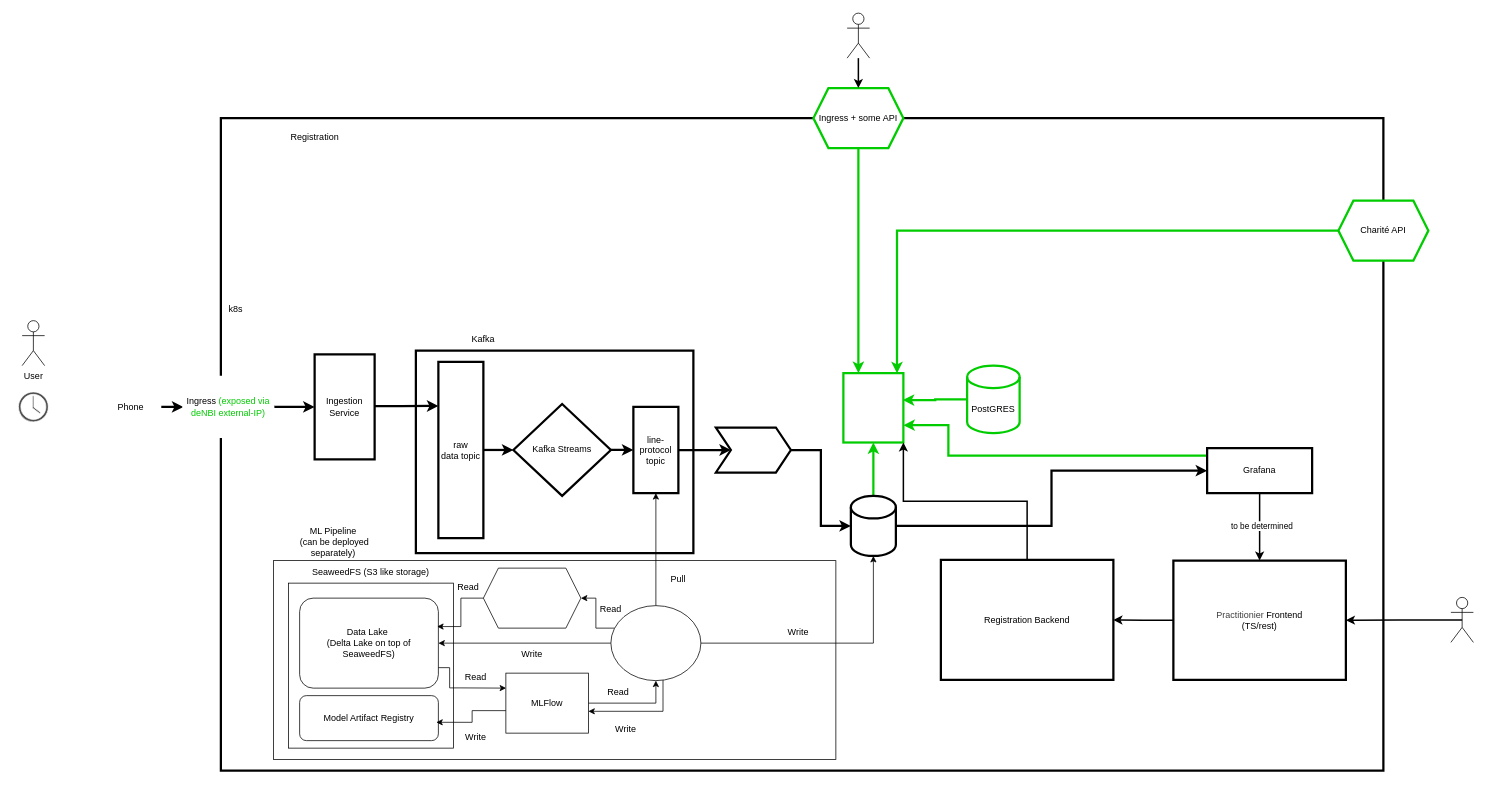
This 1499x785 diagram has some shape labels left out. The shapes that lost their labels are listed below. From the top down, each one's box as (x1, y1, x2, y2) in pixels, then its label:
(846, 12, 870, 58): Researcher
(18, 391, 48, 422): Wearable
(842, 372, 904, 443): Data Management Service
(714, 426, 792, 473): Telegraf
(849, 494, 897, 557): InfluxDB
(483, 567, 581, 628): FEAST (Feature Store)
(1450, 597, 1473, 642): Practitionier
(610, 605, 701, 681): Spark Structured Streaming
